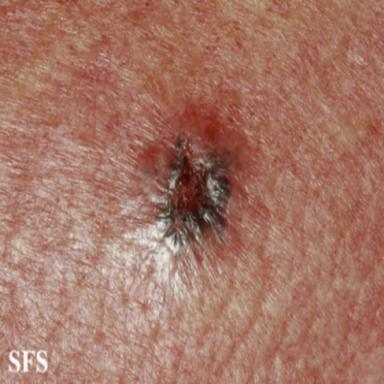basal-cell-carcinoma: (138, 104, 247, 254)
